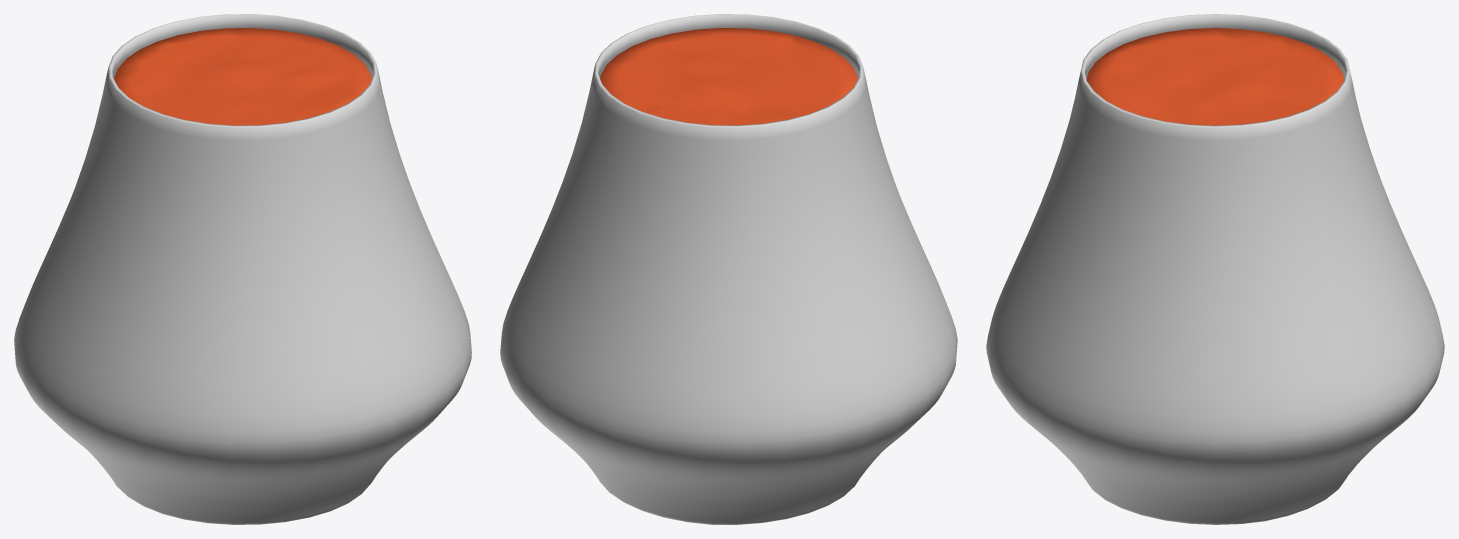
The picture shows the model from 3 angles, left to right: view 1: azimuth 30°, elevation 25°; view 2: azimuth 150°, elevation 25°; view 3: azimuth 270°, elevation 25°; orthographic projection.
Visible parts, largest first — view 1: Amelie; view 2: Amelie; view 3: Amelie.
Boxes of the visible parts, x1,y1,x2,y2 form: Amelie: [14, 14, 471, 524]; Amelie: [500, 14, 957, 524]; Amelie: [986, 14, 1444, 524].
Size of the model in its own units: 0.0731 by 0.0707 by 0.0731.
